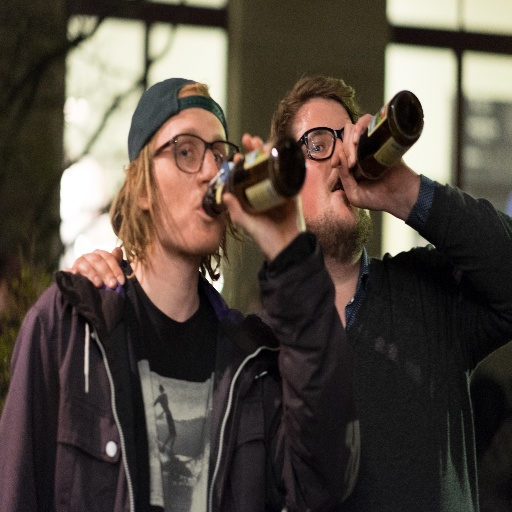hand: (220, 130, 306, 257), (329, 110, 407, 213), (71, 246, 122, 286)
